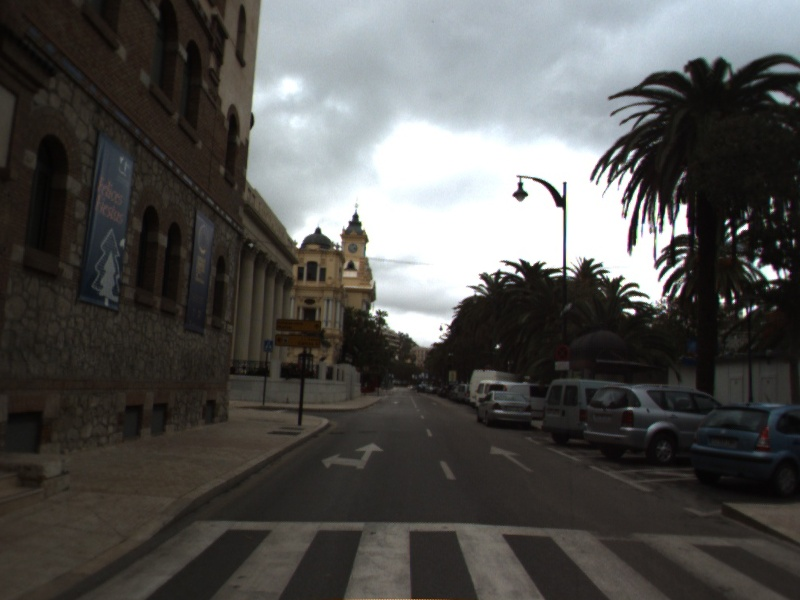STRAIGHT: (487, 443, 535, 475)
STRAIGHT_LEFT: (318, 441, 386, 472)
